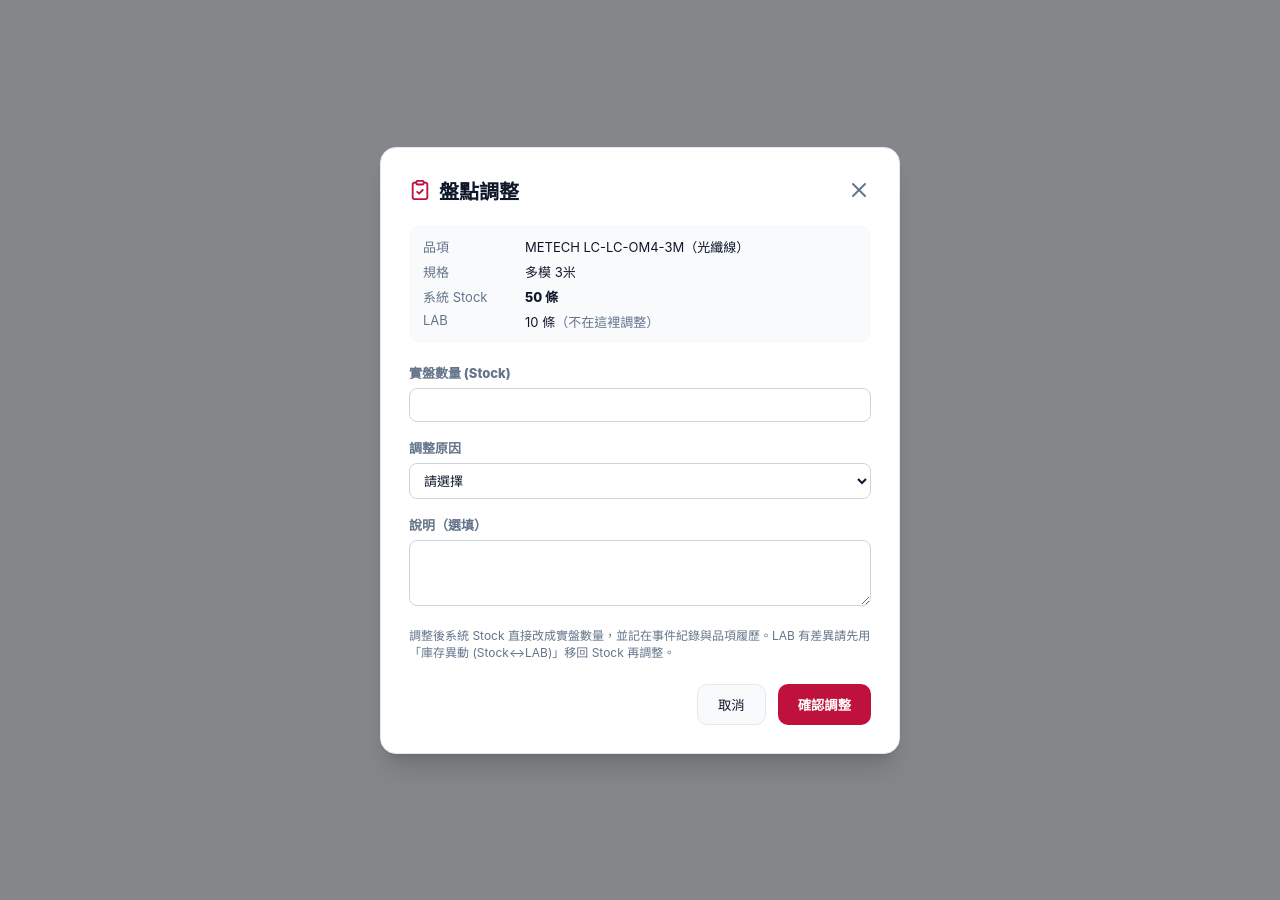
Test case: 調整視窗 › 擋下不完整的輸入：實盤「50」原因「遺失」
The width and height of the screenshot is (1280, 900).
Type "50" into the number field labelled "實盤數量 (Stock)". click: (640, 404)
box: [409,388,871,422]
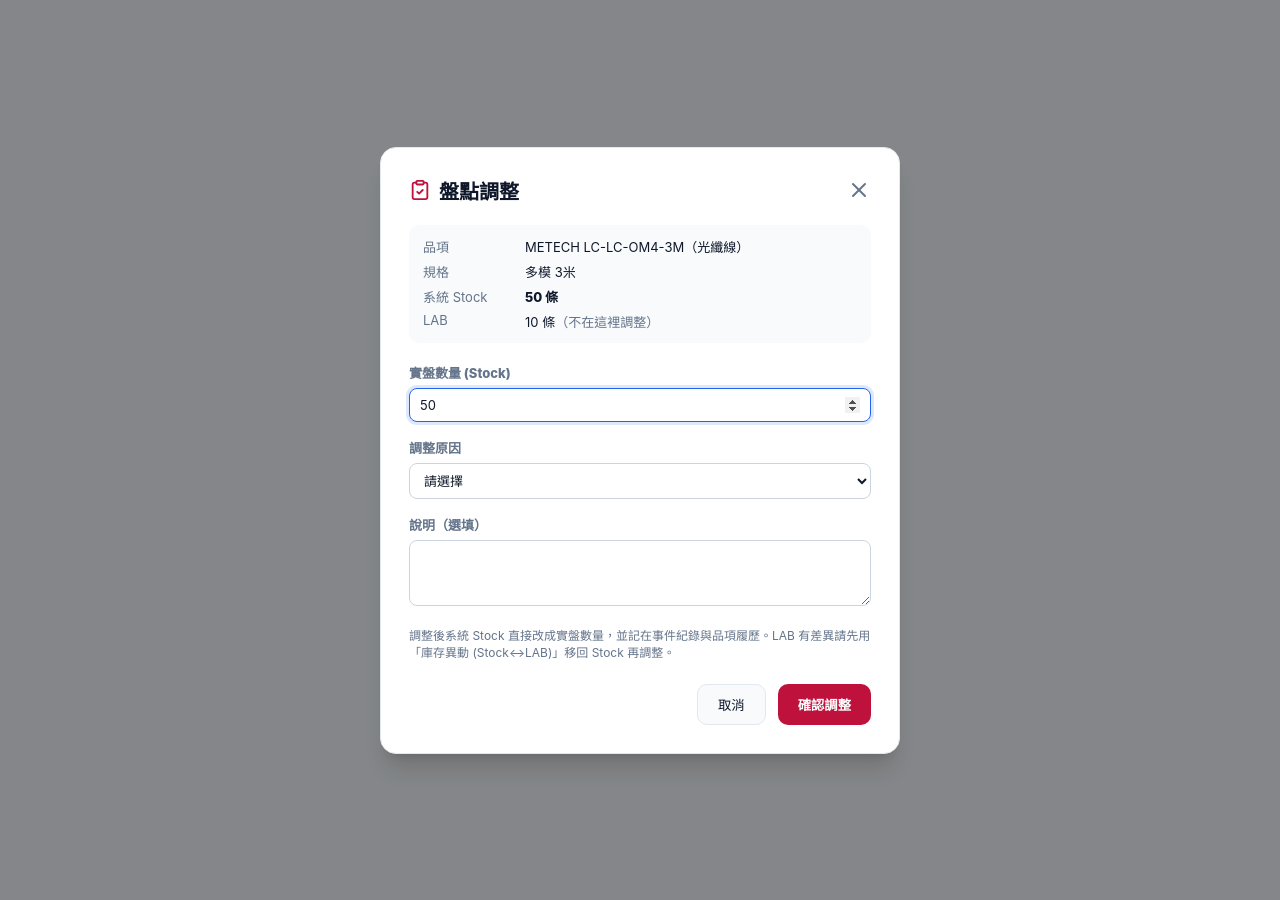
Select "遺失" in the dropdown labelled "調整原因". click: (640, 480)
box: [409,462,871,498]
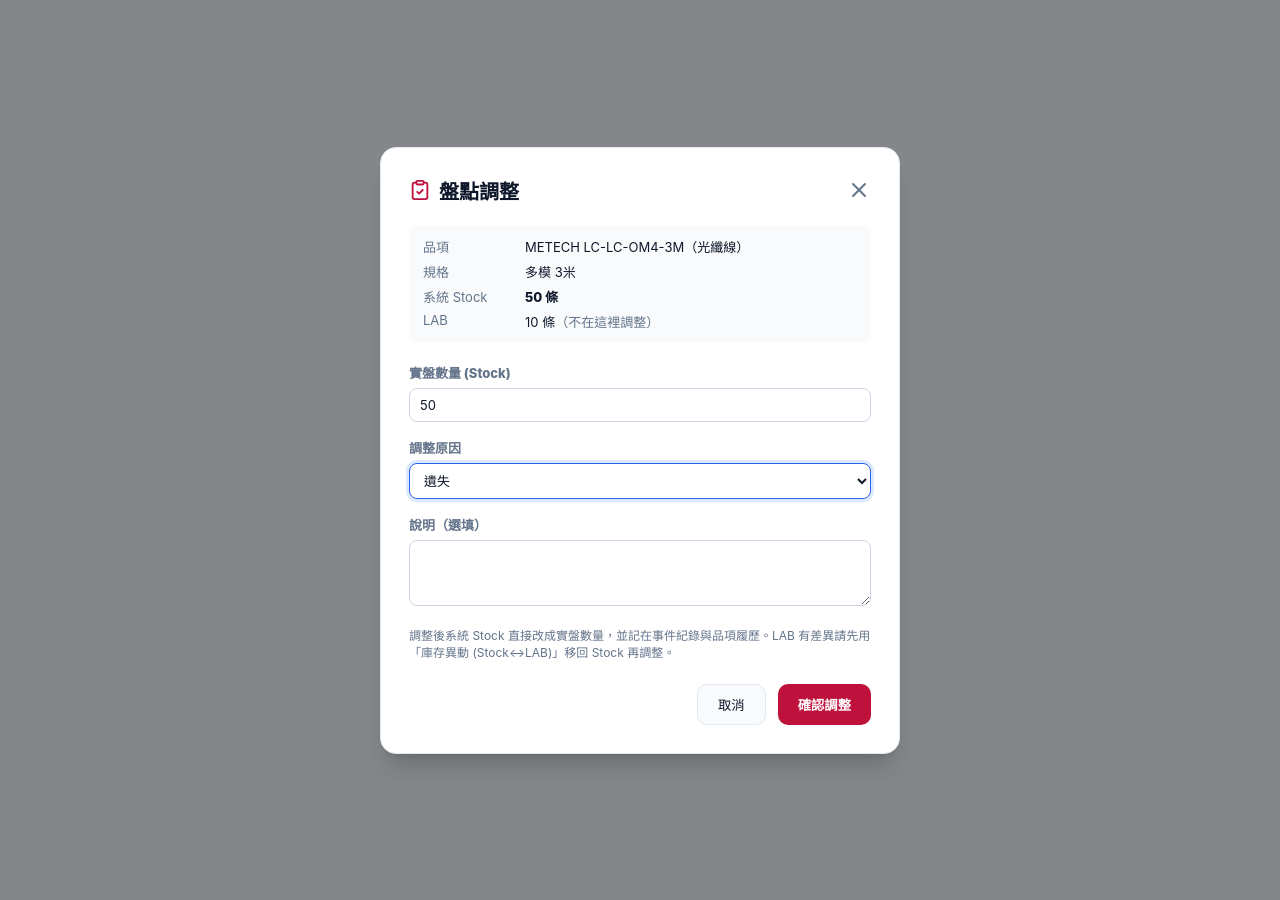
Click the button "確認調整". click: (824, 704)
box: [778,684,871,724]
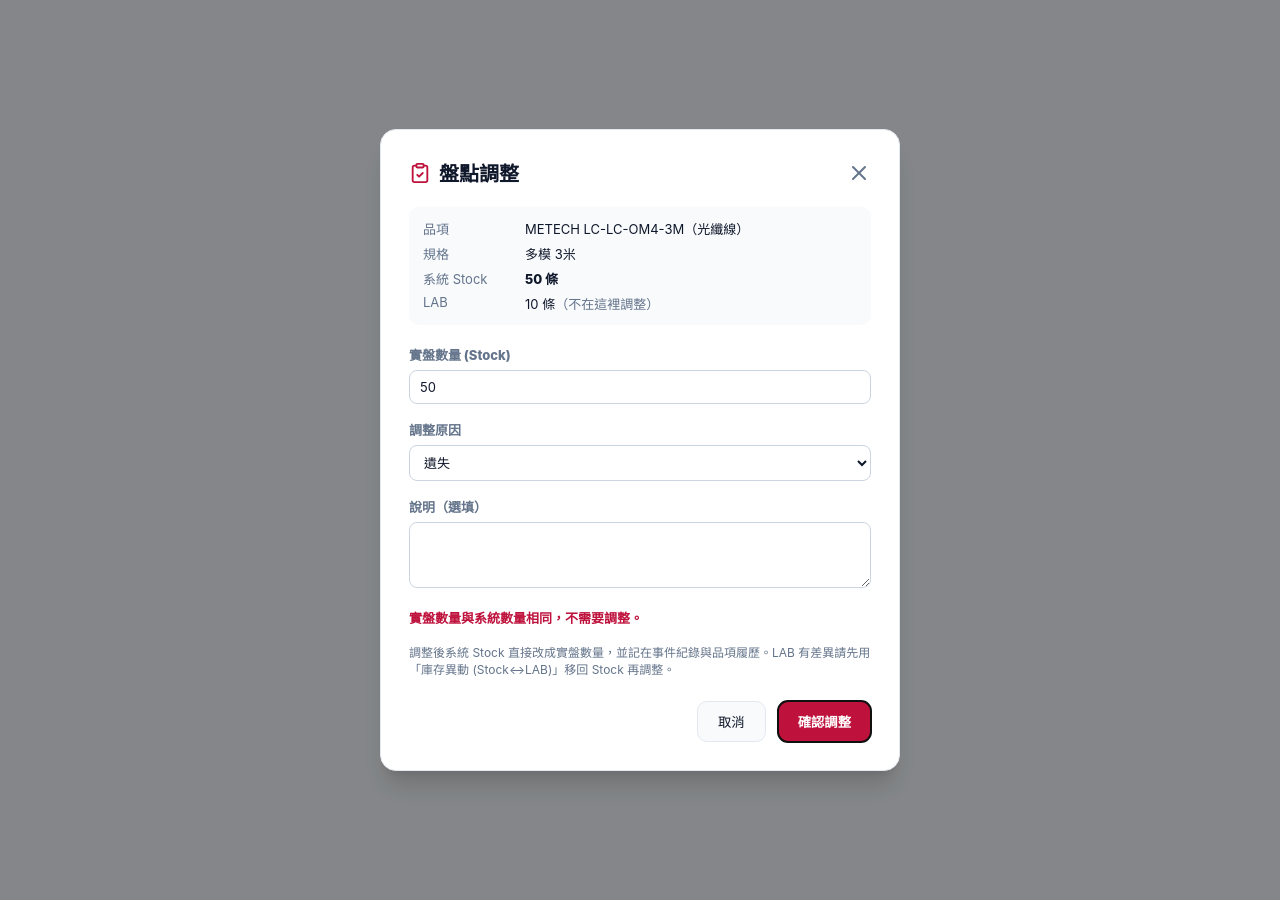
Check: the message shows "相同", box [409,610,643,626]
